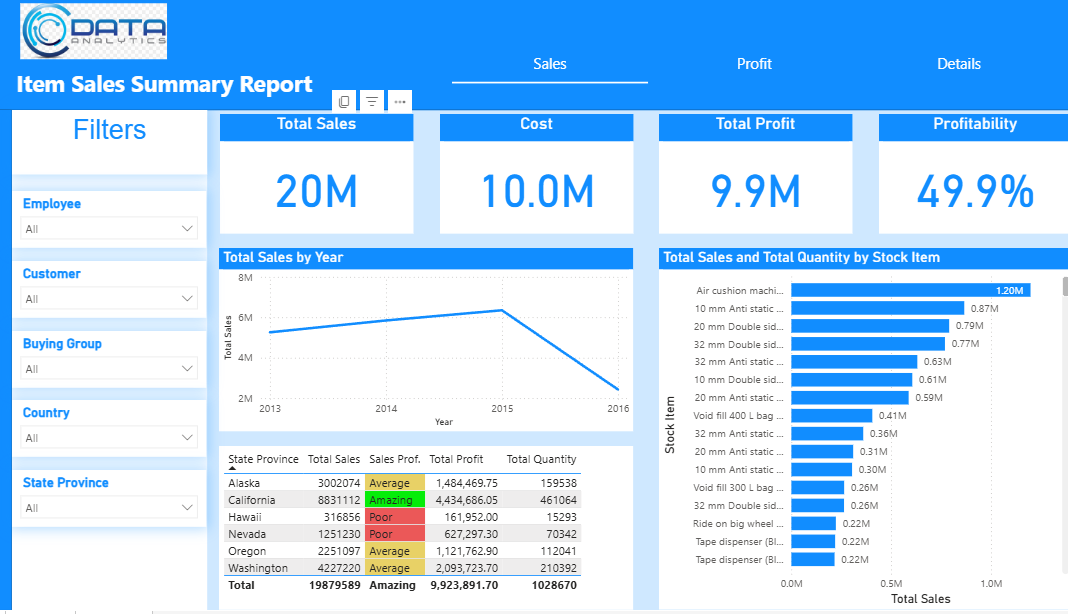

The dashboard page shown, as its layout file describes it:
{"tool":"powerbi","page":{"name":"Sales","canvas":[1280,720],"ordinal":0},"visuals":[{"type":"shape","box":[0,0,1280,131],"z":0},{"type":"shape","box":[0,129.3,15.1,591.3],"z":1000},{"type":"shape","box":[15.1,131,230.1,589.6],"z":2000},{"type":"textbox","title":"dsadsad","box":[15.1,131,230.1,75.6],"z":3000},{"type":"textbox","box":[15.1,75.6,414.9,53.8],"z":4000},{"type":"image","box":[0,0,223.4,75.6],"z":5000},{"type":"card","title":"Total Sales","fields":{"Values":["Sum(FactSale.Total Excluding Tax)"]},"box":[260.6,135.4,227.5,141.1],"z":6000},{"type":"card","title":"Cost","fields":{"Values":["FactSale.Cost"]},"box":[519.4,135.4,227.5,141.1],"z":7000},{"type":"card","title":"Total Profit","fields":{"Values":["Sum(FactSale.Profit)"]},"box":[778.1,135.4,227.5,141.1],"z":8000},{"type":"card","title":"Profitability","fields":{"Values":["FactSale.Profitability"]},"box":[1036.8,135.4,227.5,141.1],"z":9000},{"type":"lineChart","fields":{"Category":["DimDate.Date.Variation.Date Hierarchy.Year","DimDate.Date.Variation.Date Hierarchy.Quarter","DimDate.Date.Variation.Date Hierarchy.Month","DimDate.Date.Variation.Date Hierarchy.Day"],"Y":["Sum(FactSale.Total Excluding Tax)"]},"box":[259.2,293.8,488.2,216],"z":10000},{"type":"clusteredBarChart","fields":{"Y":["Sum(FactSale.Total Excluding Tax)"],"Category":["DimStockItem.Stock Item"]},"box":[777.6,293.8,488.2,426.2],"z":11000},{"type":"tableEx","fields":{"Values":["DimCity.State Province","Sum(FactSale.Total Excluding Tax)","FactSale.Sales Prof.","Sum(FactSale.Profit)","Sum(FactSale.Quantity)"]},"box":[259.2,527,488.2,193],"z":12000},{"type":"slicer","fields":{"Values":["DimEmployee.Employee"]},"box":[15.5,226,229.4,67.3],"z":13000},{"type":"slicer","fields":{"Values":["DimCustomer.Customer"]},"box":[15.5,308.4,229.4,67.3],"z":14000},{"type":"slicer","fields":{"Values":["DimCustomer.Buying Group"]},"box":[15.5,390.7,229.4,67.3],"z":15000},{"type":"slicer","fields":{"Values":["DimCity.Country"]},"box":[15.5,473.1,229.4,67.3],"z":16000},{"type":"slicer","fields":{"Values":["DimCity.State Province"]},"box":[15.5,555.5,229.4,67.3],"z":17000},{"type":"pageNavigator","box":[534.2,49,714.2,50.4],"z":18000}]}

Visuals, with their boxes in screenshot pixels (x1, y1, x2, y2), scaled from the page's 1280x720 canvas onto the 1068x614 screenshot:
shape: 0 0 1067 112
shape: 0 110 13 613
shape: 13 112 205 613
"dsadsad" textbox: 13 112 205 176
textbox: 13 64 359 110
image: 0 0 186 64
"Total Sales" card: 217 115 407 236
"Cost" card: 433 115 623 236
"Total Profit" card: 649 115 839 236
"Profitability" card: 865 115 1055 236
lineChart - DimDate.Date.Variation.Date Hierarchy.Year x DimDate.Date.Variation.Date Hierarchy.Quarter: 216 251 624 435
clusteredBarChart - Sum(FactSale.Total Excluding Tax) x DimStockItem.Stock Item: 649 251 1056 613
tableEx - DimCity.State Province x Sum(FactSale.Total Excluding Tax): 216 449 624 613
slicer - DimEmployee.Employee: 13 193 204 250
slicer - DimCustomer.Customer: 13 263 204 320
slicer - DimCustomer.Buying Group: 13 333 204 391
slicer - DimCity.Country: 13 403 204 461
slicer - DimCity.State Province: 13 474 204 531
pageNavigator: 446 42 1042 85
